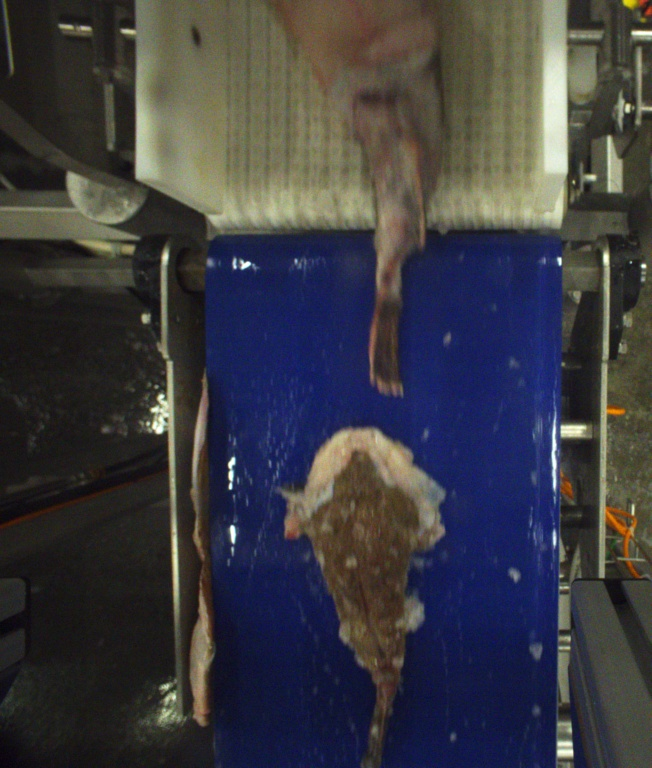ANF: (283, 426, 449, 768)
